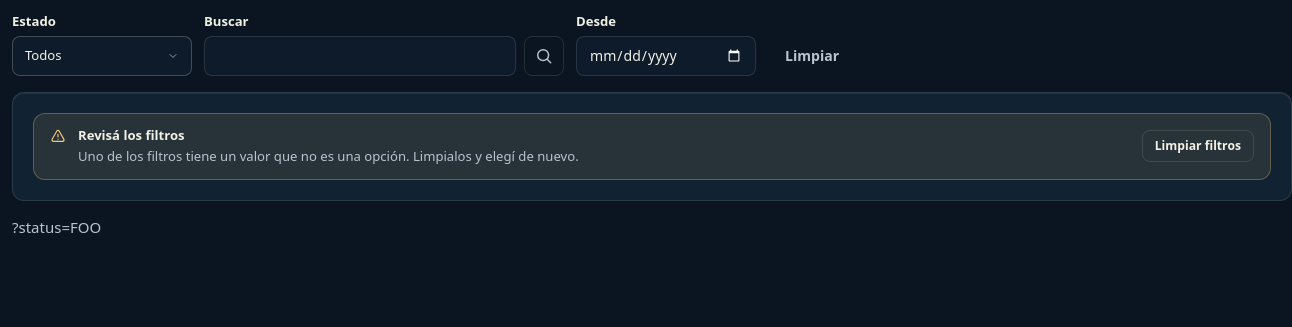
Test: ListView › refuses to ask with the filters of /pagos?status=FOO and lets them be cleared
Expected: the text "Uno de los filtros tiene un valor que no es una opción. Limpialos y elegí de nuevo." is shown, top-left (78, 147), bottom-right (579, 165)
Expected: the text "Revisá los filtros" is shown, top-left (78, 126), bottom-right (185, 144)
Click the button "Limpiar filtros": click(1198, 146) top-left (1142, 130), bottom-right (1254, 162)
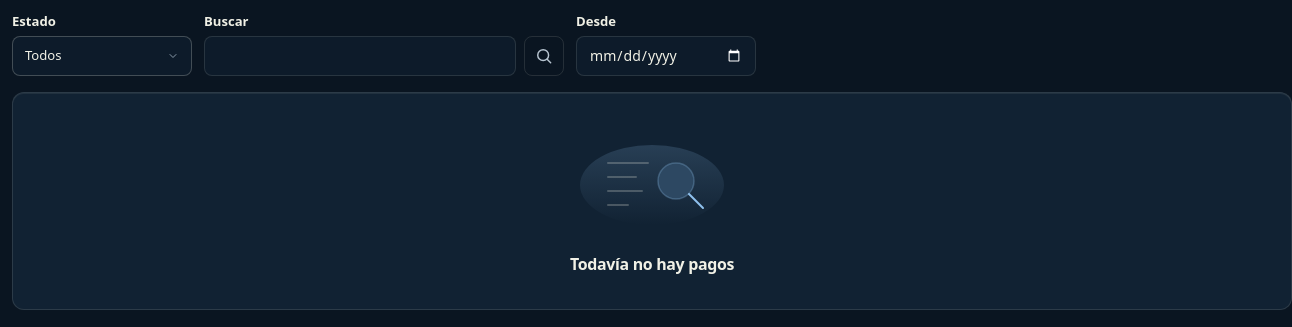
Result: the text "Todavía no hay pagos" is shown at top-left (570, 253), bottom-right (734, 277)
